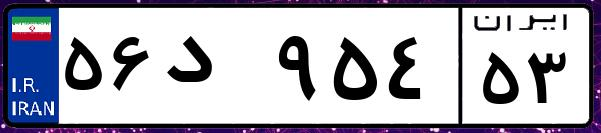3: (525, 38, 570, 115)
4: (385, 28, 445, 110)
5: (330, 28, 385, 110), (57, 26, 110, 100), (475, 38, 525, 113)
6: (110, 28, 158, 98)
9: (270, 28, 330, 110)
د: (158, 20, 270, 120)
